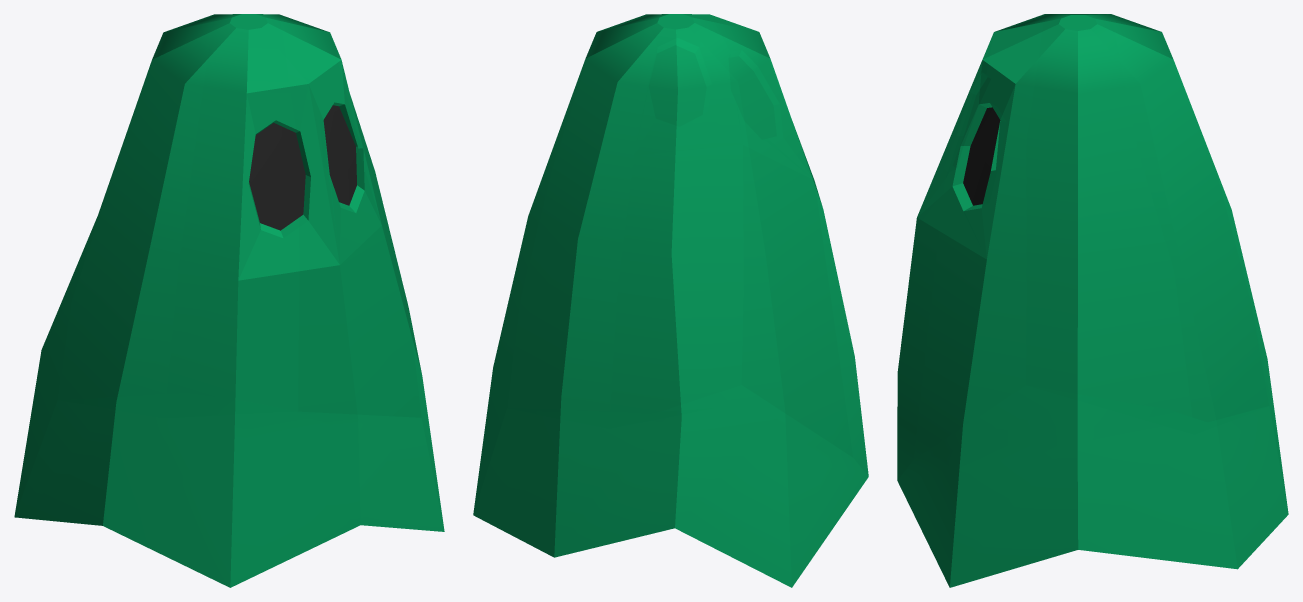
File: ghost.fbx
The picture shows the model from 3 angles, left to right: view 1: azimuth 30°, elevation 25°; view 2: azimuth 150°, elevation 25°; view 3: azimuth 270°, elevation 25°; orthographic projection. The views are drawn at different scales.
Visible parts, largest first — view 1: pCylinder1; view 2: pCylinder1; view 3: pCylinder1.
Part boxes in pixels (<box>): pCylinder1: <box>14,14,444,587</box>; pCylinder1: <box>473,14,868,587</box>; pCylinder1: <box>897,14,1288,587</box>.
Size of the model in its own units: 51.17 by 69.38 by 49.2.
